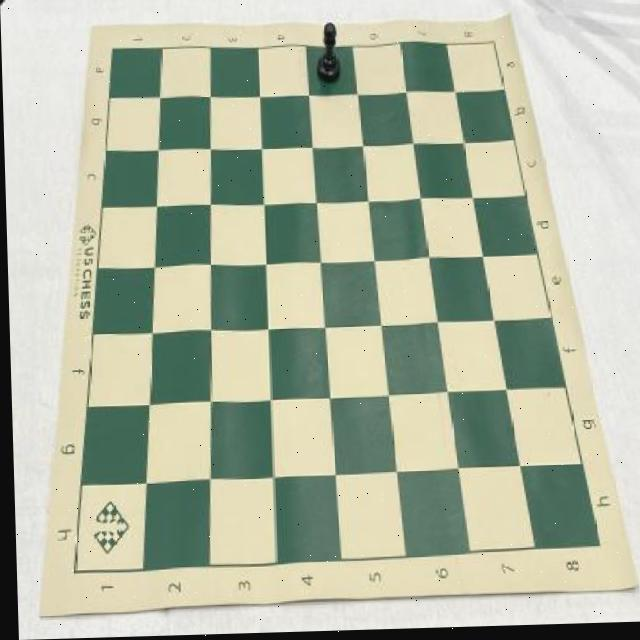black-knight: (315, 25, 342, 88)
